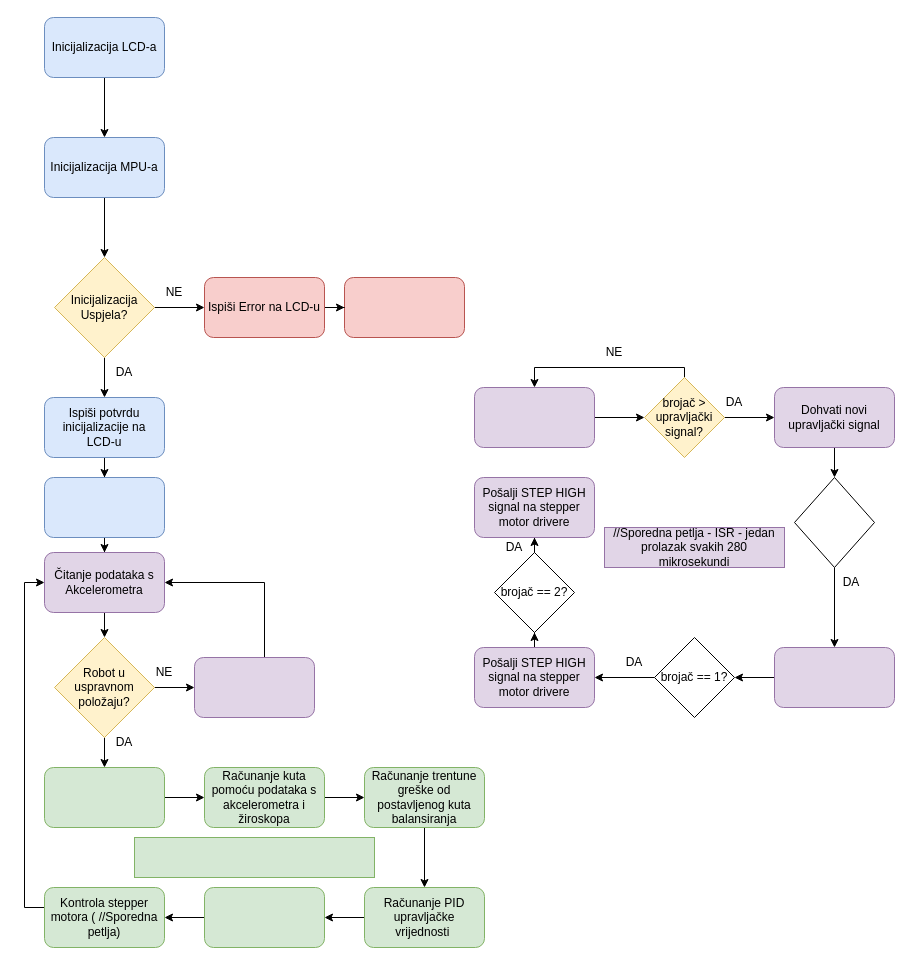
Some shapes in this 912 by 965 pixel diagram are drawn without their labels. Each missing label, with the centre of its shape:
//Glavna petlja ~ ponavljanje svake 4ms: the point at 254,857
brojač == 0?: the point at 834,522
Kalibracija Žiroskopa: the point at 104,507
Kraj Rada - Balansiranje nije moguće: the point at 404,307
PID upravljačka vrijednost = 0: the point at 254,687
Povećaj brojač: the point at 534,417
Pretvorba upravljačkog siglana u signale potrebne za stepper motor drivere: the point at 264,917
Pročitaj signal, postavi smjer, postavi DIR pin: the point at 834,677
Čitanje podataka sa žiroskopa: the point at 104,797
